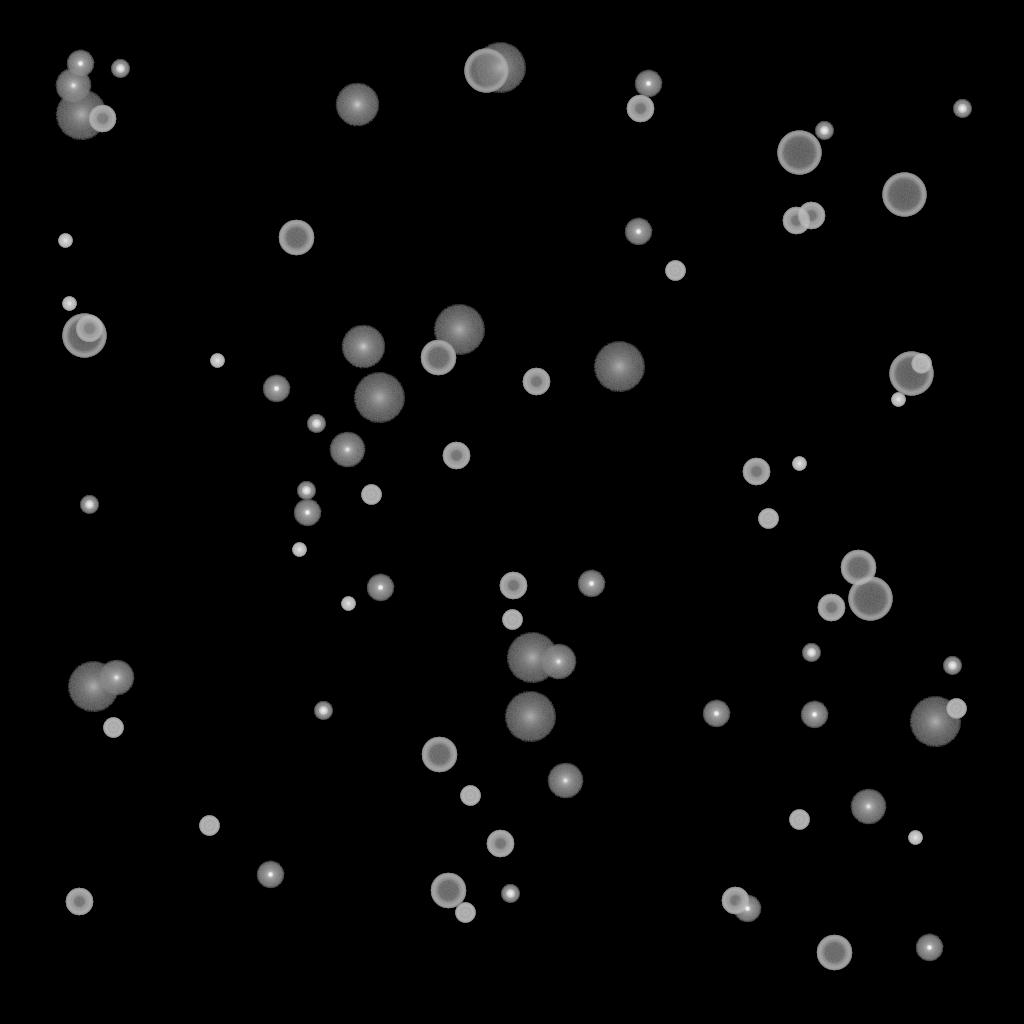depth:-10: (915, 934, 943, 962), (624, 218, 652, 246), (366, 574, 394, 602), (262, 375, 290, 403), (702, 700, 730, 728), (733, 895, 761, 923), (800, 701, 828, 729), (577, 570, 605, 598), (256, 861, 284, 889), (634, 70, 662, 98), (66, 50, 94, 78), (293, 499, 321, 527)
depth:-20: (802, 644, 820, 662), (943, 657, 961, 675), (307, 415, 325, 433), (953, 100, 971, 118), (314, 702, 332, 720), (501, 885, 519, 903), (297, 482, 315, 500), (815, 122, 833, 140), (80, 496, 98, 514), (111, 60, 129, 78)
depth:-30: (891, 393, 905, 407), (908, 831, 922, 845), (62, 297, 76, 311), (341, 597, 355, 611), (58, 234, 72, 248), (210, 354, 224, 368), (292, 543, 306, 557), (792, 457, 806, 471)
depth:-40: (460, 786, 480, 806), (758, 509, 778, 529), (789, 810, 809, 830), (455, 903, 475, 923), (361, 485, 381, 505), (946, 699, 966, 719), (103, 718, 123, 738), (502, 610, 522, 630), (911, 354, 931, 374), (199, 816, 219, 836), (665, 261, 685, 281)
depth:-50: (626, 95, 654, 123), (742, 458, 770, 486), (782, 207, 810, 235), (522, 368, 550, 396), (442, 442, 470, 470), (797, 202, 825, 230), (65, 888, 93, 916), (486, 830, 514, 858), (499, 572, 527, 600), (817, 594, 845, 622), (721, 887, 749, 915), (88, 105, 116, 133), (75, 315, 103, 343)
depth:-60: (430, 873, 466, 909), (421, 737, 457, 773), (816, 935, 852, 971), (278, 220, 314, 256), (840, 550, 876, 586), (420, 340, 456, 376)
depth:-70: (464, 49, 508, 93), (882, 173, 926, 217), (62, 314, 106, 358), (848, 577, 892, 621), (777, 131, 821, 175), (889, 352, 933, 396)
depth:0: (55, 68, 91, 104), (329, 432, 365, 468), (98, 660, 134, 696), (540, 644, 576, 680), (547, 763, 583, 799), (850, 789, 886, 825)
depth:10: (335, 83, 379, 127), (341, 325, 385, 369)
depth:20: (909, 697, 961, 747), (506, 633, 558, 683), (504, 692, 556, 742), (433, 305, 485, 355), (67, 662, 119, 712), (593, 342, 645, 392), (353, 373, 405, 423), (474, 43, 526, 93), (55, 90, 107, 140)
